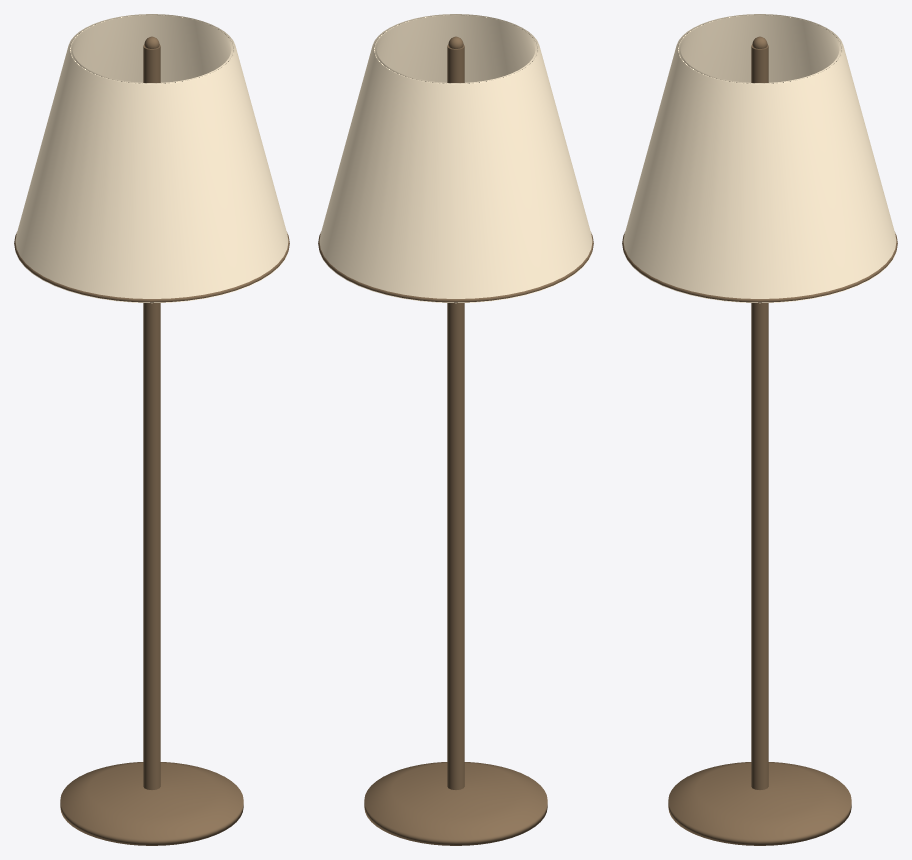
Rendered from floorlamp.glb.
3 renders of one model, left to right at view 1: azimuth 30°, elevation 25°; view 2: azimuth 150°, elevation 25°; view 3: azimuth 270°, elevation 25°, orthographic.
Parts seen in each view (by area): view 1: hollow-supported-shade, grounded-weighted-base, continuous-lamp-stem, bound-shade-hem; view 2: hollow-supported-shade, grounded-weighted-base, continuous-lamp-stem, bound-shade-hem; view 3: hollow-supported-shade, grounded-weighted-base, continuous-lamp-stem, bound-shade-hem.
Boxes of the visible parts, x1,y1,x2,y2 form: hollow-supported-shade: [15, 14, 288, 303]; grounded-weighted-base: [60, 762, 243, 845]; continuous-lamp-stem: [143, 45, 160, 789]; bound-shade-hem: [14, 232, 289, 302]; hollow-supported-shade: [319, 14, 592, 303]; grounded-weighted-base: [364, 762, 547, 845]; continuous-lamp-stem: [447, 45, 464, 789]; bound-shade-hem: [318, 232, 593, 302]; hollow-supported-shade: [623, 14, 896, 303]; grounded-weighted-base: [668, 762, 851, 845]; continuous-lamp-stem: [751, 45, 768, 789]; bound-shade-hem: [622, 232, 897, 302].
Bounding box in the file's own units: 0.722 × 2.24 × 0.722.
